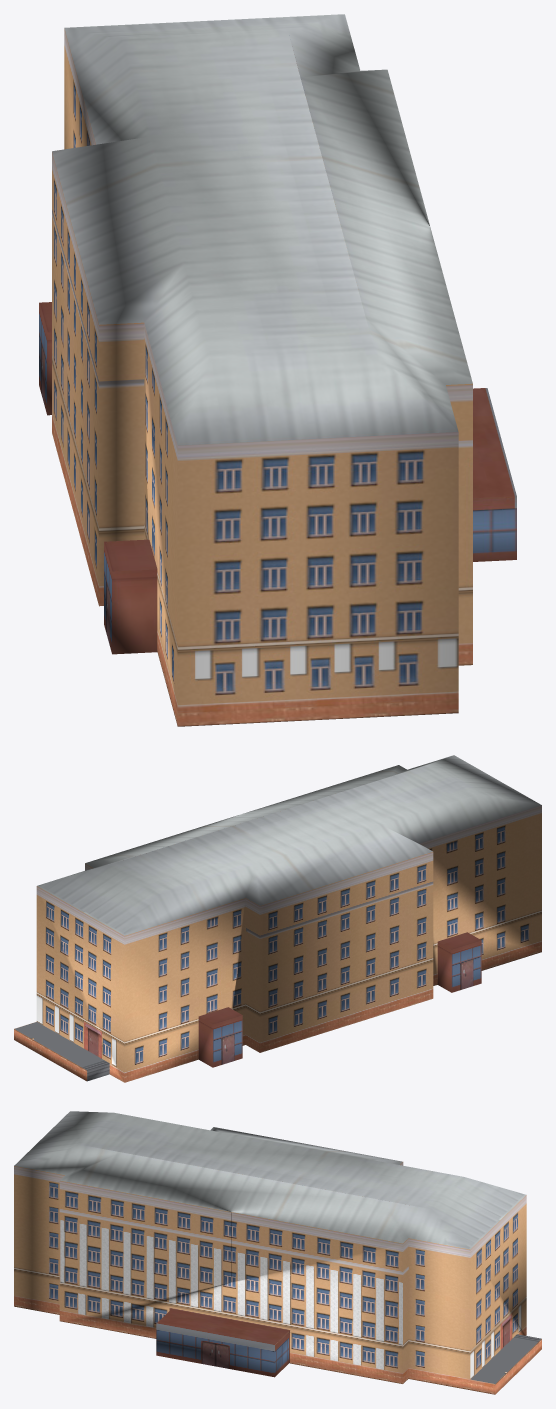
Rendered from lp-building27.fbx.
The picture shows the model from 3 angles, top to bottom: view 1: azimuth 30°, elevation 25°; view 2: azimuth 150°, elevation 25°; view 3: azimuth 270°, elevation 25°; orthographic projection. The views are drawn at different scales.
Parts seen in each view (by area): view 1: 01houses.020; view 2: 01houses.020; view 3: 01houses.020.
Boxes of the visible parts, box(x1,y1,x2,y2) form: 01houses.020: box(39, 14, 516, 726); 01houses.020: box(14, 755, 541, 1082); 01houses.020: box(14, 1111, 541, 1394).
Bounding box in the file's own units: 1459 × 750 × 2277.
1 material, 1 textured.
